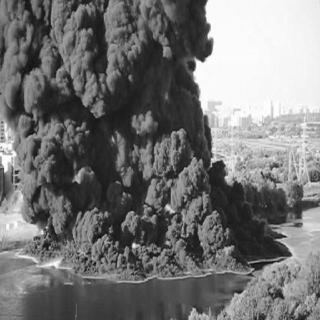Fire: (160, 195, 188, 239)
